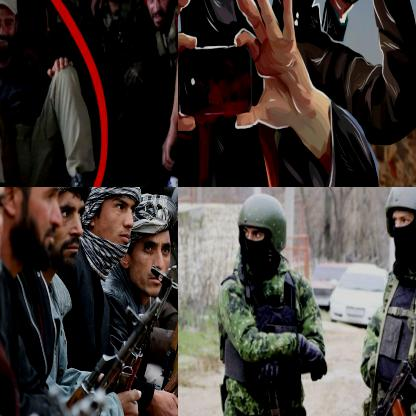rifle: (56, 294, 164, 415), (97, 264, 177, 415), (100, 295, 177, 415), (338, 310, 415, 415), (246, 364, 305, 415)
